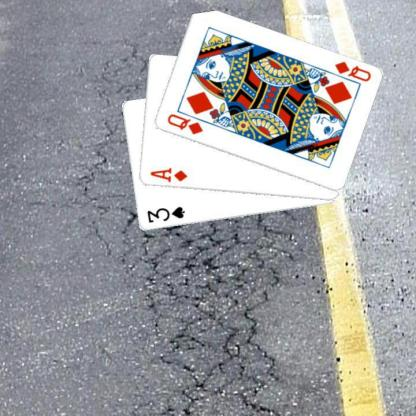3S: (144, 204, 185, 224)
AD: (148, 165, 188, 184)
QD: (164, 111, 204, 136), (332, 59, 372, 83)
